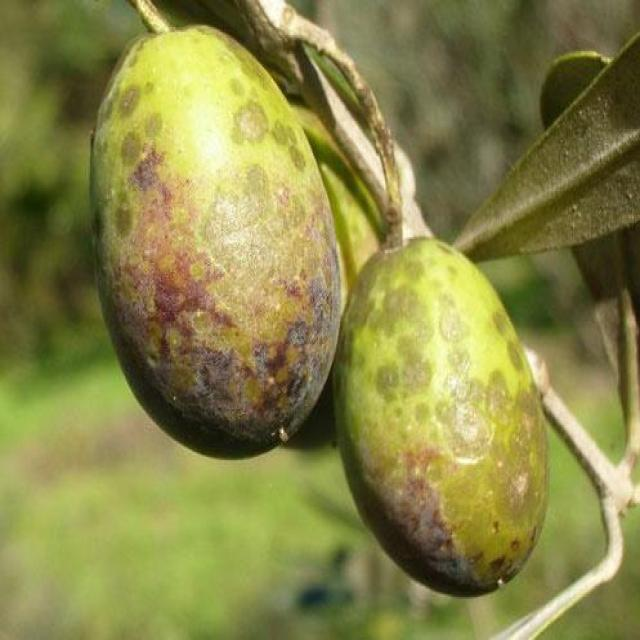Olive Fruit Fly: (90, 27, 341, 455), (345, 237, 549, 592)
